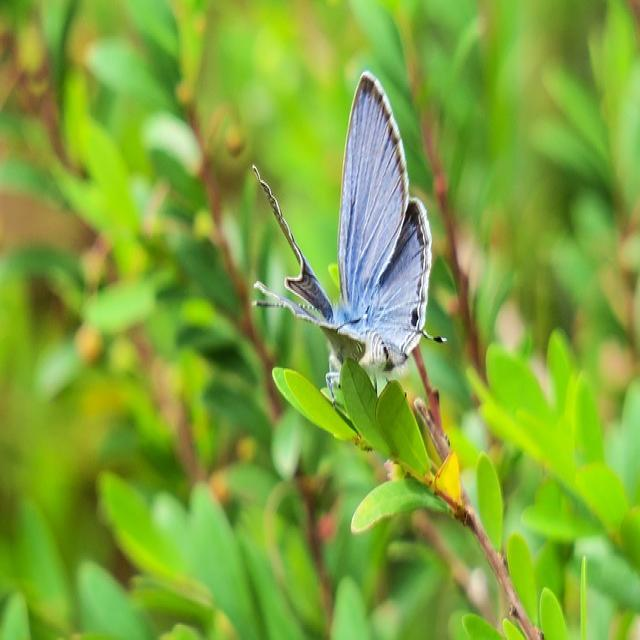butterfly: (256, 72, 434, 373)
